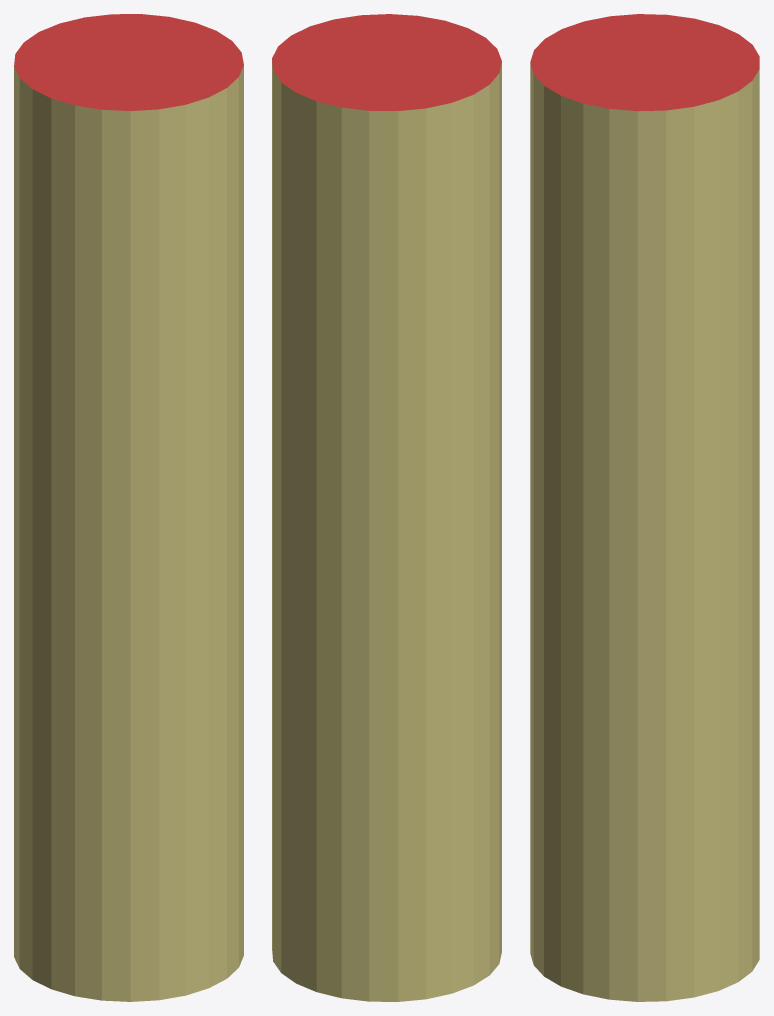
The picture shows the model from 3 angles, left to right: view 1: azimuth 30°, elevation 25°; view 2: azimuth 150°, elevation 25°; view 3: azimuth 270°, elevation 25°; orthographic projection.
Bounding box in the file's own units: 3.67 × 3.66 × 15.68.
